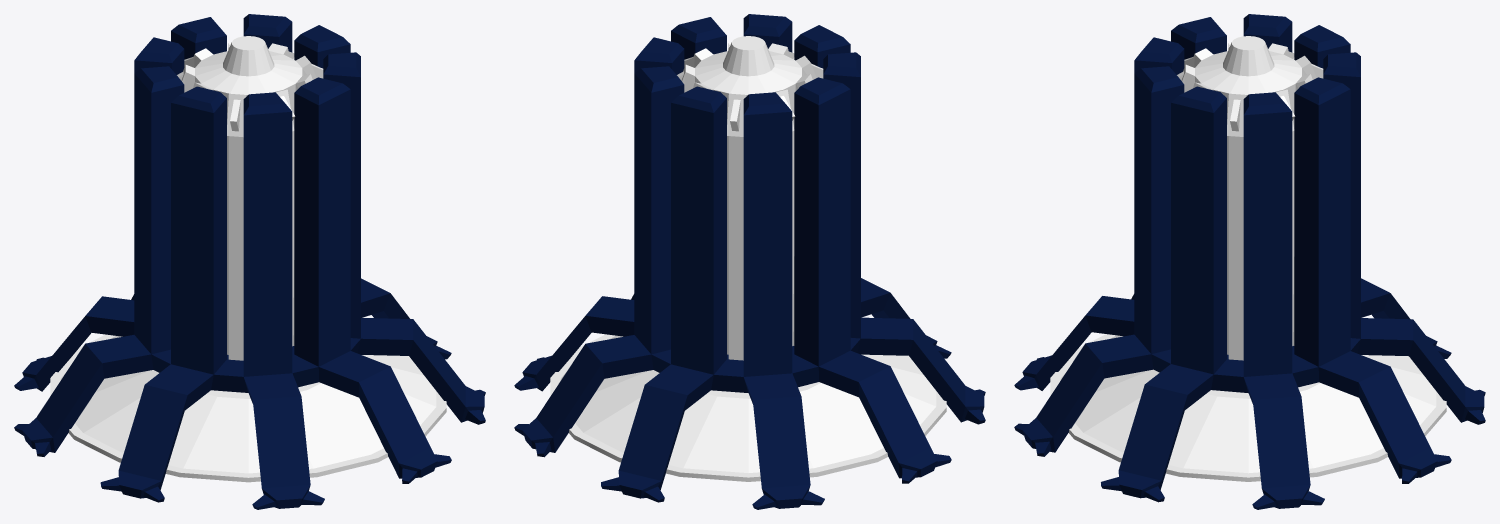
Rendered from stancia1.FBX.
3 views of the same model, side by side, from view 1: azimuth 30°, elevation 25°; view 2: azimuth 150°, elevation 25°; view 3: azimuth 270°, elevation 25° (orthographic).
Visible parts, largest first — view 1: Cylinder001, Cylinder003, Cylinder002; view 2: Cylinder001, Cylinder003, Cylinder002; view 3: Cylinder001, Cylinder003, Cylinder002.
Boxes of the visible parts, x1,y1,x2,y2 form: Cylinder001: (14, 14, 485, 509); Cylinder003: (50, 334, 446, 482); Cylinder002: (177, 36, 323, 360); Cylinder001: (514, 14, 985, 509); Cylinder003: (550, 334, 946, 481); Cylinder002: (677, 36, 823, 360); Cylinder001: (1014, 14, 1485, 509); Cylinder003: (1050, 334, 1446, 481); Cylinder002: (1177, 36, 1323, 360).
Size of the model in its own units: 670 by 574 by 660.
